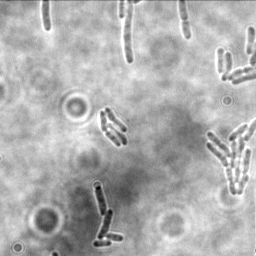Dividing: (177, 1, 193, 41), (96, 208, 115, 241)
Microcolony: (203, 117, 255, 197), (214, 25, 255, 86), (99, 106, 130, 148)
Rod: (123, 1, 135, 65), (95, 184, 109, 216), (42, 1, 52, 32), (104, 231, 125, 243), (91, 239, 113, 248)
